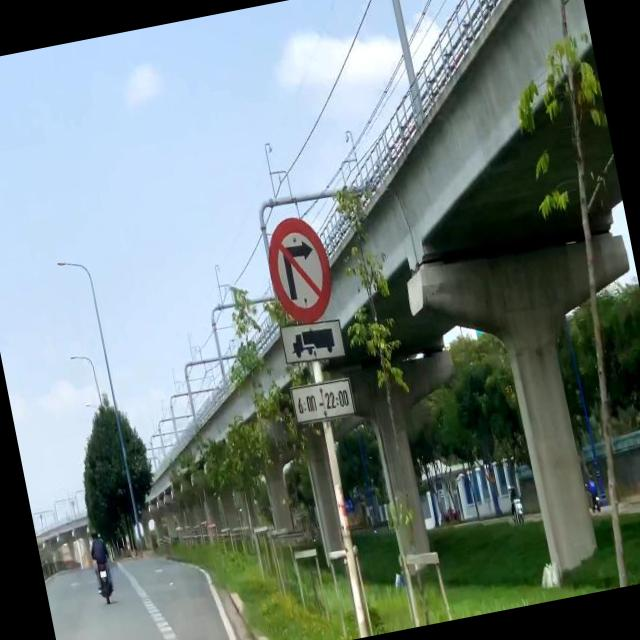P-123b: (260, 212, 340, 327)
